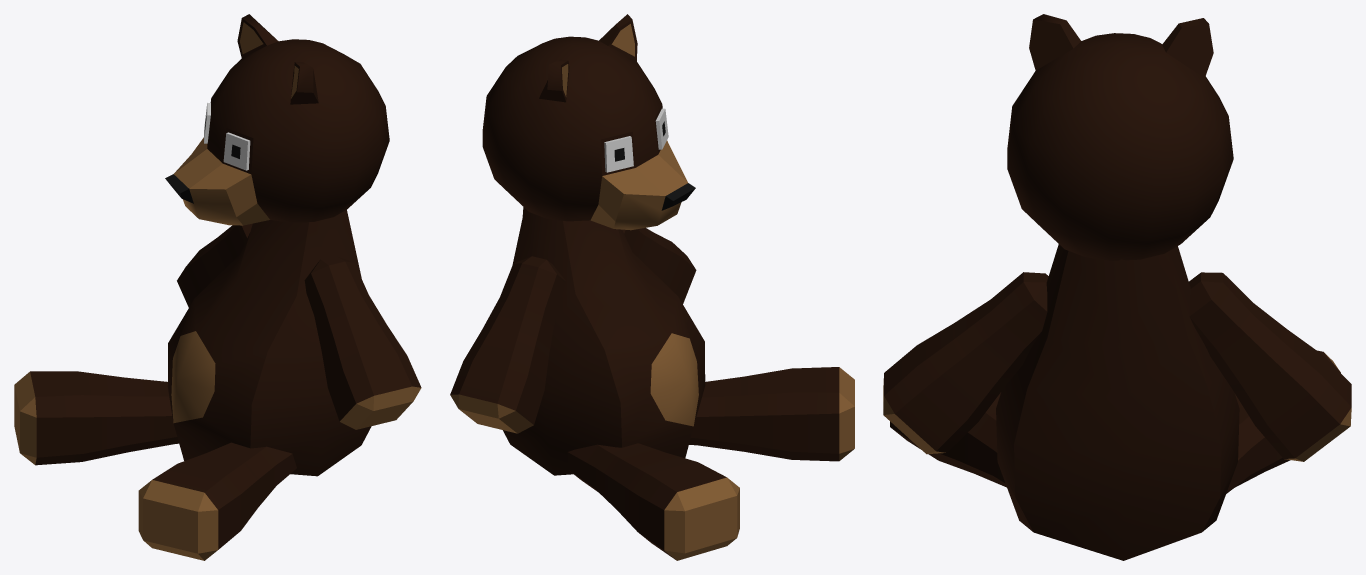
The model's file is Ours.FBX.
3 views of the same model, side by side, from view 1: azimuth 30°, elevation 25°; view 2: azimuth 150°, elevation 25°; view 3: azimuth 270°, elevation 25° (orthographic). The views are drawn at different scales.
Visible parts, largest first — view 1: Box009; view 2: Box009; view 3: Box009.
Boxes of the visible parts, bbox=[...] form: Box009: bbox=[14, 14, 421, 560]; Box009: bbox=[450, 14, 854, 560]; Box009: bbox=[883, 14, 1351, 560].
Size of the model in its own units: 39.03 by 52.96 by 42.59.
